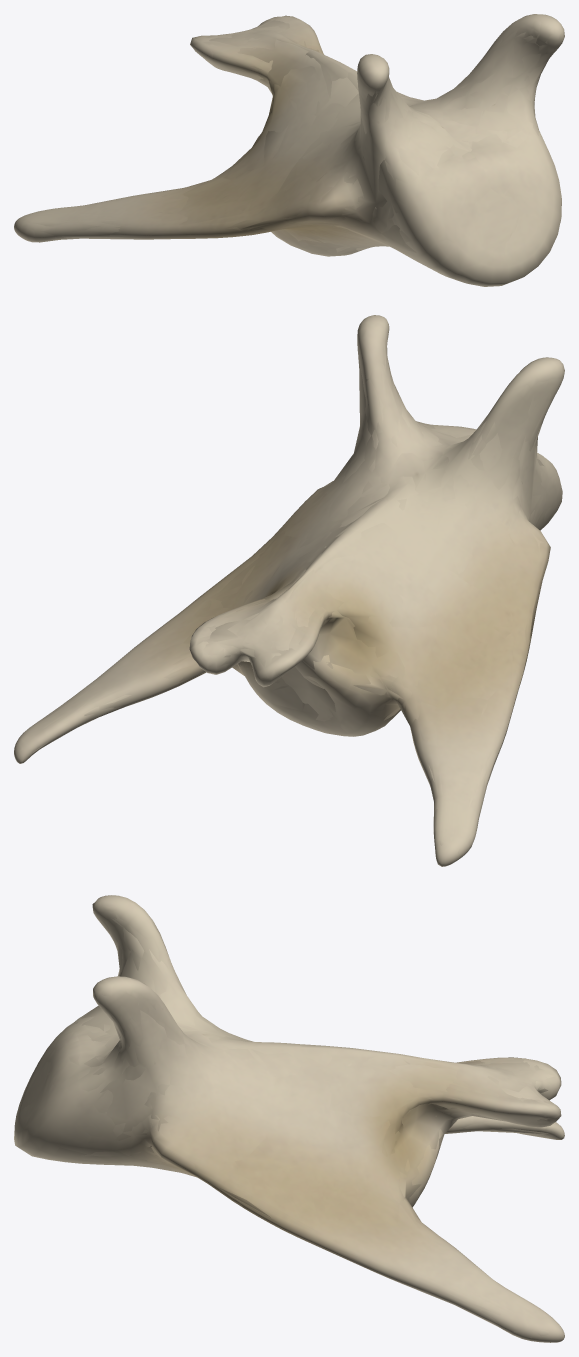
The model's file is vertebrae caudales 02.fbx.
The picture shows the model from 3 angles, top to bottom: view 1: azimuth 30°, elevation 25°; view 2: azimuth 150°, elevation 25°; view 3: azimuth 270°, elevation 25°; orthographic projection. The views are drawn at different scales.
Visible parts, largest first — view 1: vertebrae caudales 02, vertebrae caudales 02 high, vertebrae caudales 02 low; view 2: vertebrae caudales 02 high, vertebrae caudales 02, vertebrae caudales 02 low; view 3: vertebrae caudales 02, vertebrae caudales 02 high, vertebrae caudales 02 low.
Boxes of the visible parts, x1,y1,x2,y2 form: vertebrae caudales 02: (15,14,564,286); vertebrae caudales 02 high: (14,14,564,286); vertebrae caudales 02 low: (54,19,547,252); vertebrae caudales 02 high: (14,315,564,866); vertebrae caudales 02: (17,315,564,866); vertebrae caudales 02 low: (34,358,548,815); vertebrae caudales 02: (14,895,564,1341); vertebrae caudales 02 high: (14,895,564,1342); vertebrae caudales 02 low: (75,918,548,1324).
Bounding box in the file's own units: 6.88 × 4.55 × 7.5.
